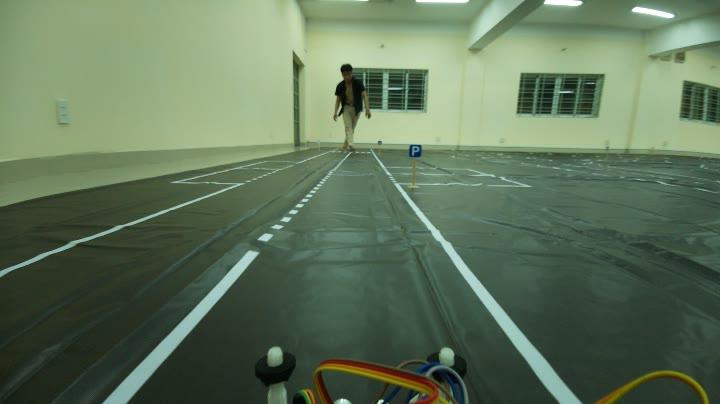parking: (403, 142, 428, 164)
